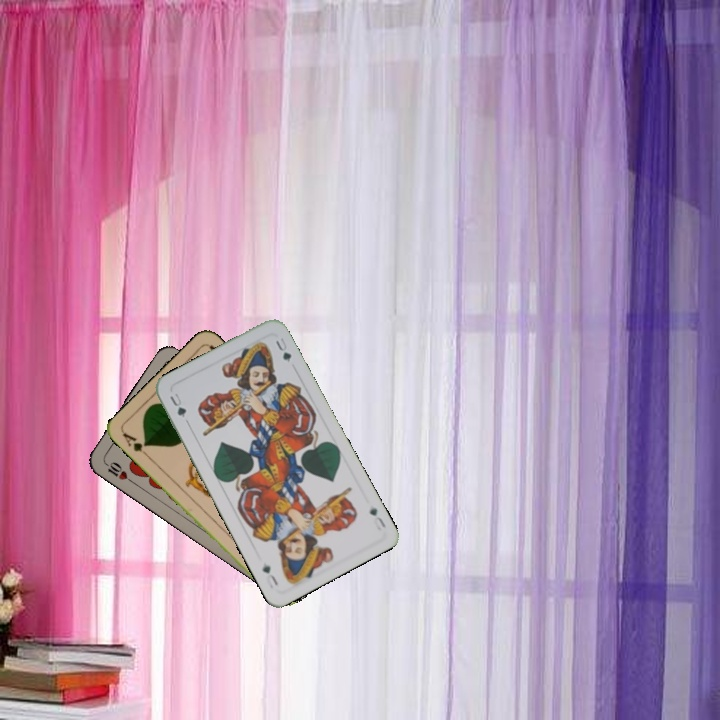GA: (118, 429, 152, 460)
GU: (165, 389, 189, 420), (365, 503, 388, 533)
H10: (100, 457, 136, 486)
